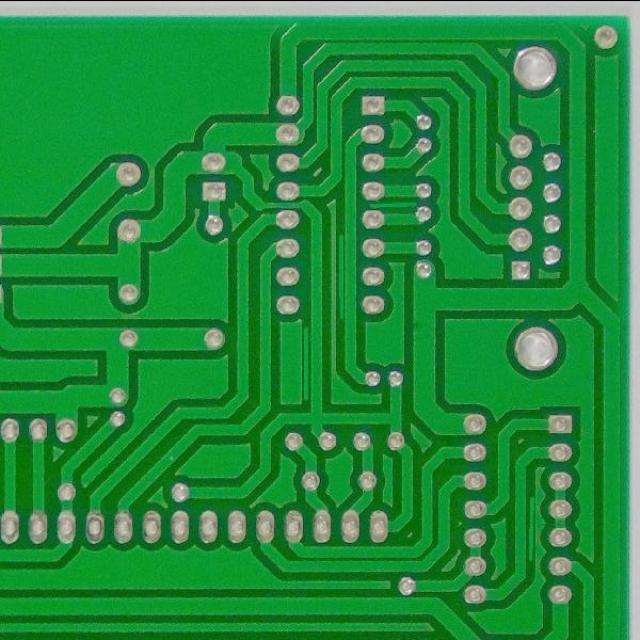Spurious_Cooper: (337, 224, 346, 322), (301, 323, 311, 404), (365, 197, 418, 210), (528, 494, 535, 571)
